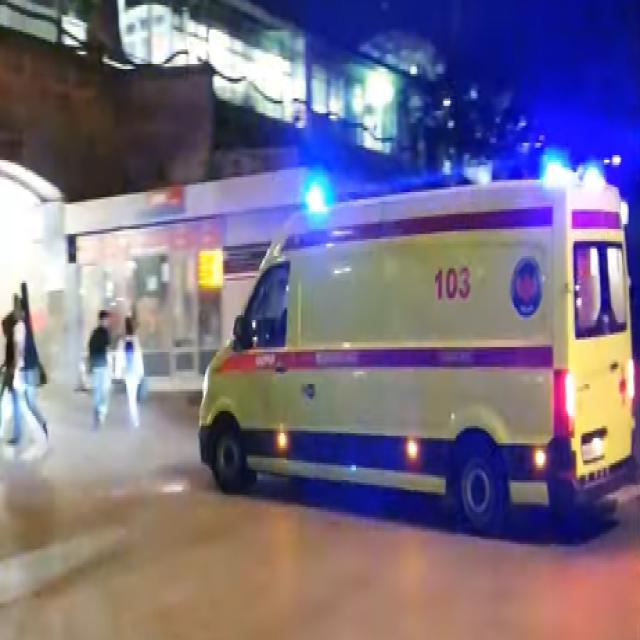intensive care unit: (198, 167, 637, 539)
